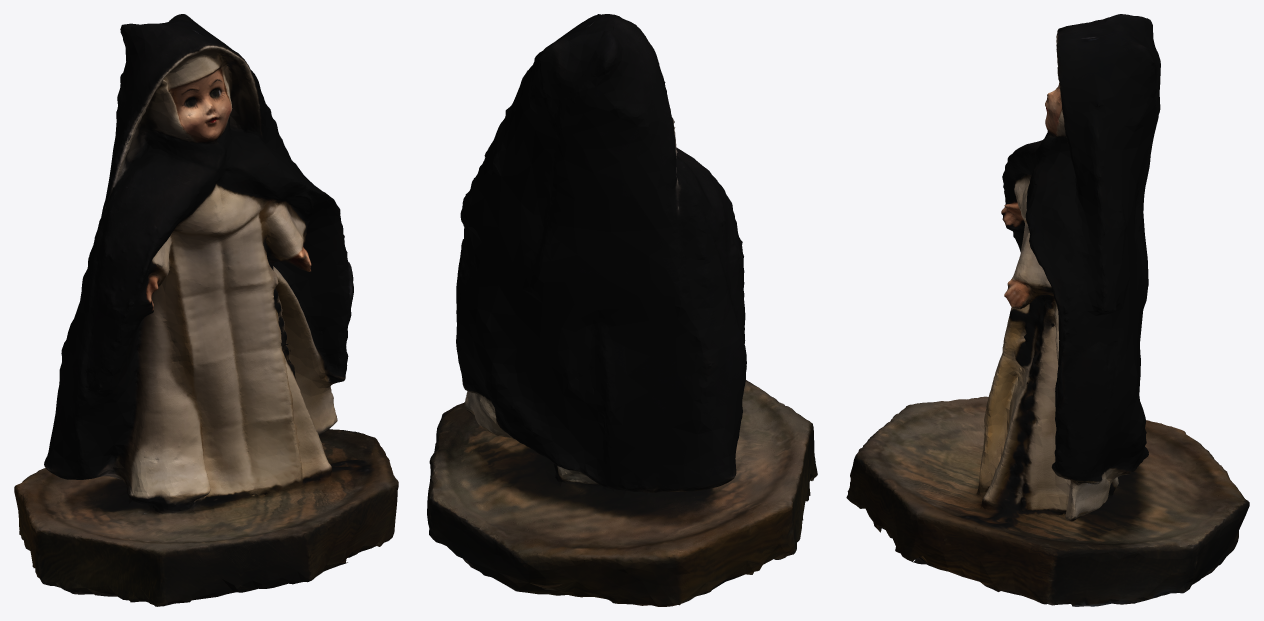
Rendered from Sinsinawa Dominican Sister Doll.glb.
3 views of the same model, side by side, from view 1: azimuth 30°, elevation 25°; view 2: azimuth 150°, elevation 25°; view 3: azimuth 270°, elevation 25° (orthographic). The views are drawn at different scales.
Bounding box in the file's own units: 1.75 × 2.49 × 1.76.
Materials: 11 (11 with a texture image).
